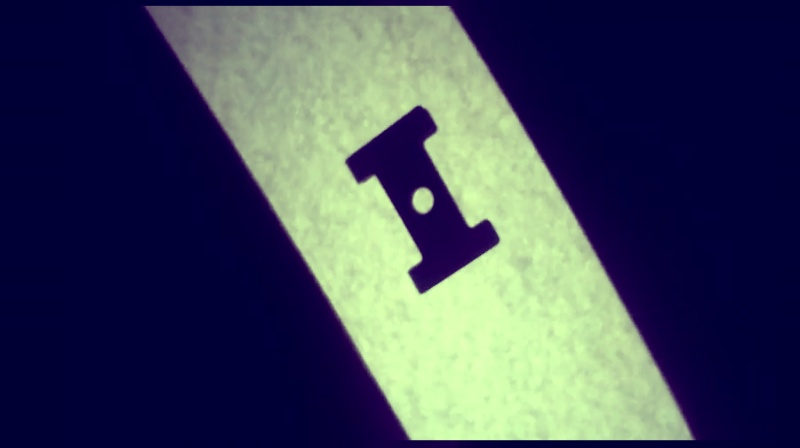O002: (341, 102, 504, 297)
